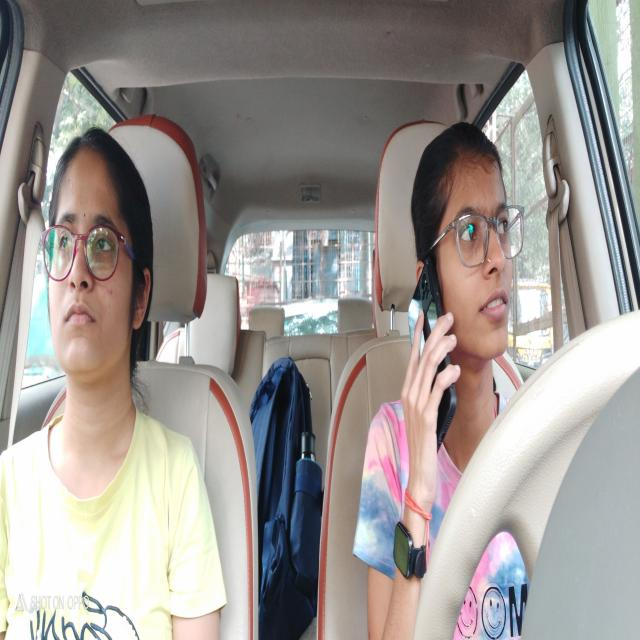mobile: (404, 262, 459, 451)
person: (43, 134, 152, 390), (414, 144, 525, 361)
